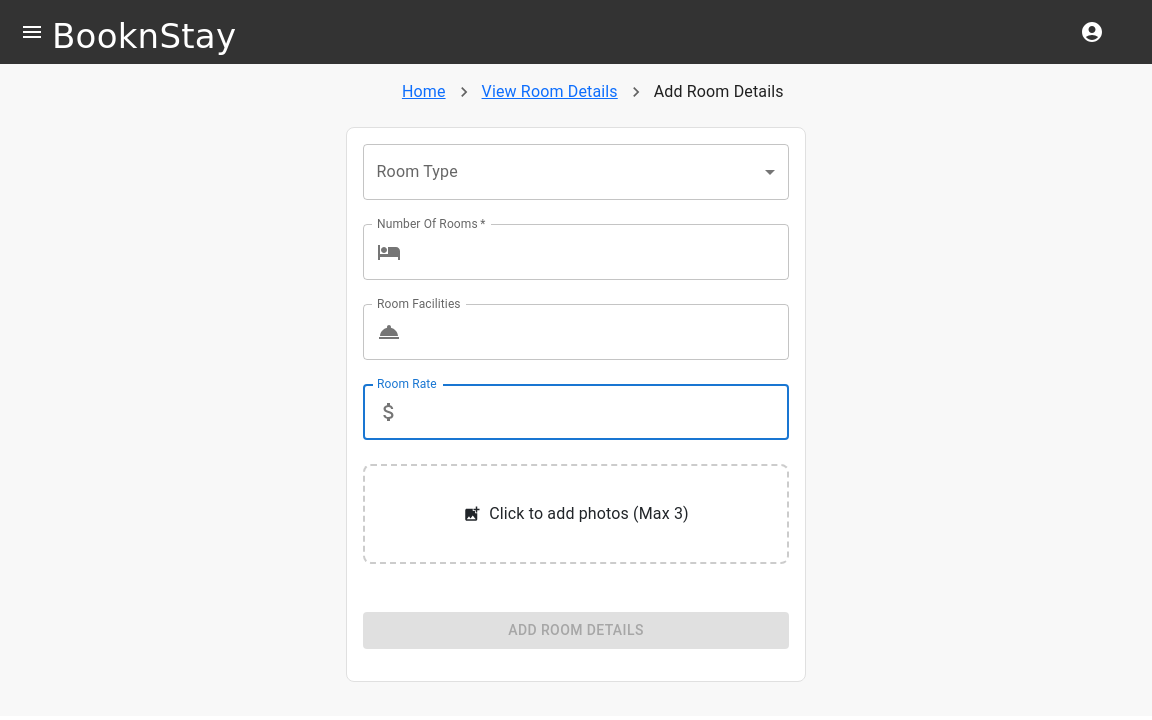
it: RoomDetails Component › handles rooms rate with invalid characters
Type "abc123" into the field labelled "Room Rate" at (599, 412), box [409,384,789,440]
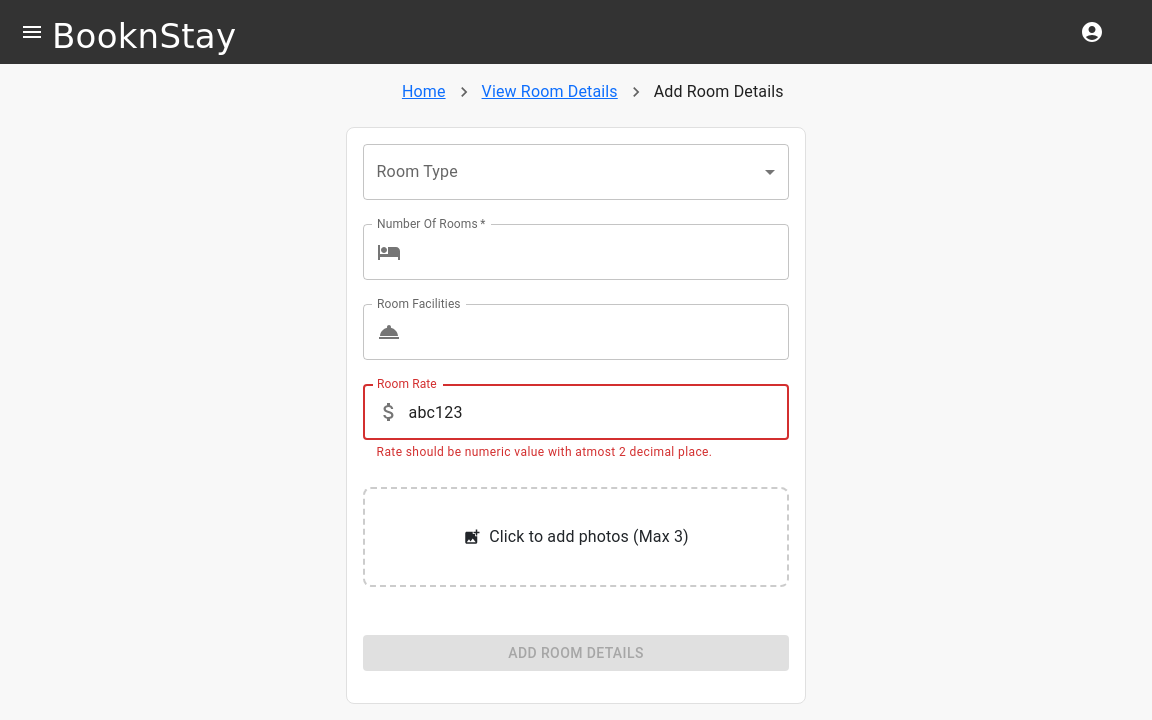
Now the text "Rate should be numeric value with atmost 2 decimal place." is shown, box [377,445,712,459]
